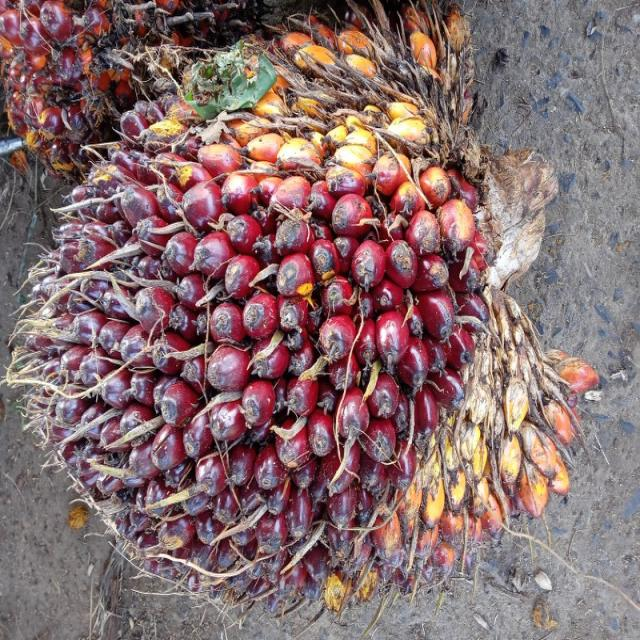fraksi 1: (15, 49, 597, 606)
